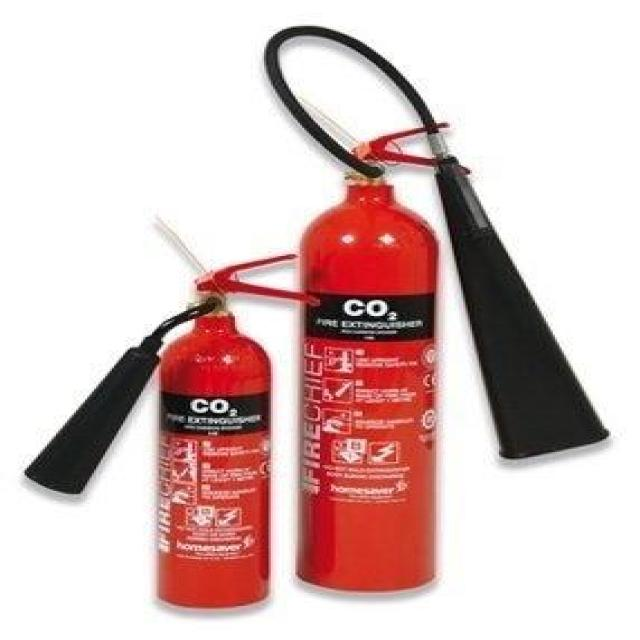fire_extinguisher: (256, 17, 617, 595), (14, 247, 322, 613)
